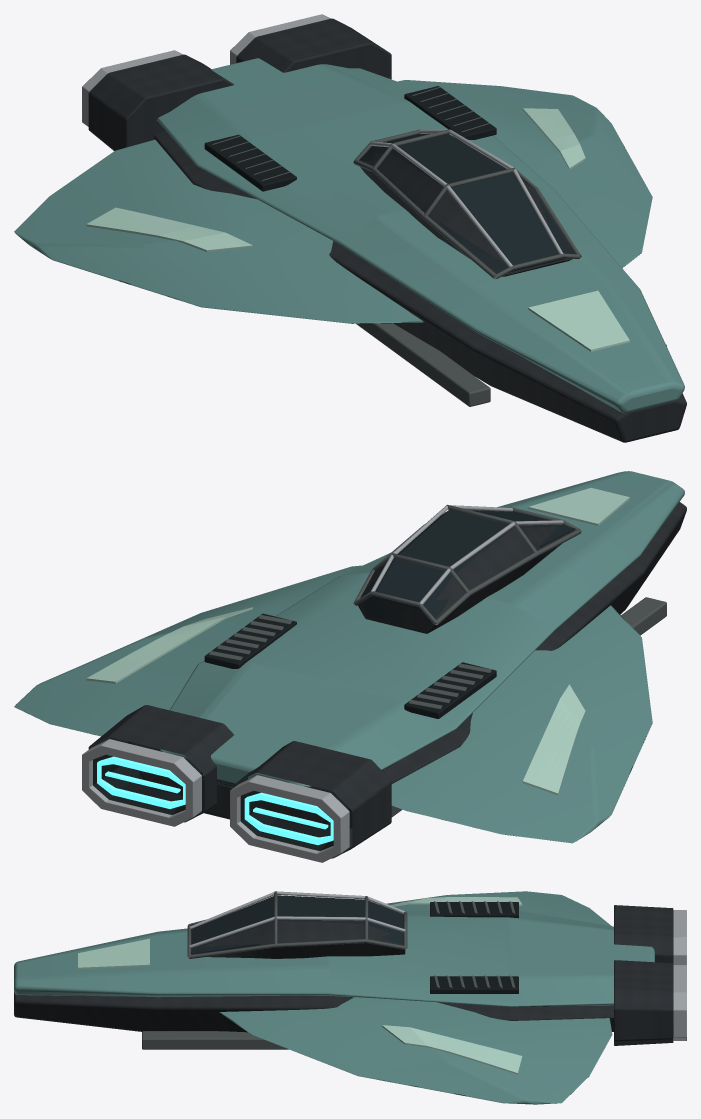
Rendered from manta.glb.
The picture shows the model from 3 angles, top to bottom: view 1: azimuth 30°, elevation 25°; view 2: azimuth 150°, elevation 25°; view 3: azimuth 270°, elevation 25°; orthographic projection. The views are drawn at different scales.
Parts seen in each view (by area): view 1: manta_Ceramic_Geometry, manta_carbon_Geometry, manta_glass_Geometry, manta_accent_Geometry, manta_edge_Geometry, manta_vent_Geometry, manta_metal_Geometry; view 2: manta_Ceramic_Geometry, manta_carbon_Geometry, manta_metal_Geometry, manta_accent_Geometry, manta_glass_Geometry, manta_vent_Geometry, manta_edge_Geometry, manta_Ion_Geometry; view 3: manta_Ceramic_Geometry, manta_carbon_Geometry, manta_glass_Geometry, manta_edge_Geometry, manta_accent_Geometry, manta_metal_Geometry, manta_vent_Geometry.
Part boxes in pixels (x1,y1,x2,y2): manta_Ceramic_Geometry: (14,58,684,413); manta_carbon_Geometry: (88,18,686,442); manta_glass_Geometry: (360,133,574,273); manta_accent_Geometry: (86,108,629,351); manta_edge_Geometry: (211,86,666,406); manta_vent_Geometry: (204,86,496,191); manta_metal_Geometry: (82,14,563,266); manta_Ceramic_Geometry: (14,471,684,843); manta_carbon_Geometry: (88,502,686,858); manta_metal_Geometry: (82,505,563,862); manta_accent_Geometry: (86,488,629,795); manta_glass_Geometry: (360,510,575,625); manta_vent_Geometry: (93,613,496,850); manta_edge_Geometry: (209,504,666,817); manta_Ion_Geometry: (97,756,333,845); manta_Ceramic_Geometry: (14,891,654,1104); manta_carbon_Geometry: (14,905,673,1045); manta_glass_Geometry: (190,895,403,953); manta_edge_Geometry: (142,891,515,1049); manta_accent_Geometry: (78,897,522,1074); manta_metal_Geometry: (189,891,686,1040); manta_vent_Geometry: (430,902,518,993).
Bounding box in the file's own units: 4.34 × 1.06 × 5.89.
Materials: 9 (3 with a texture image).
